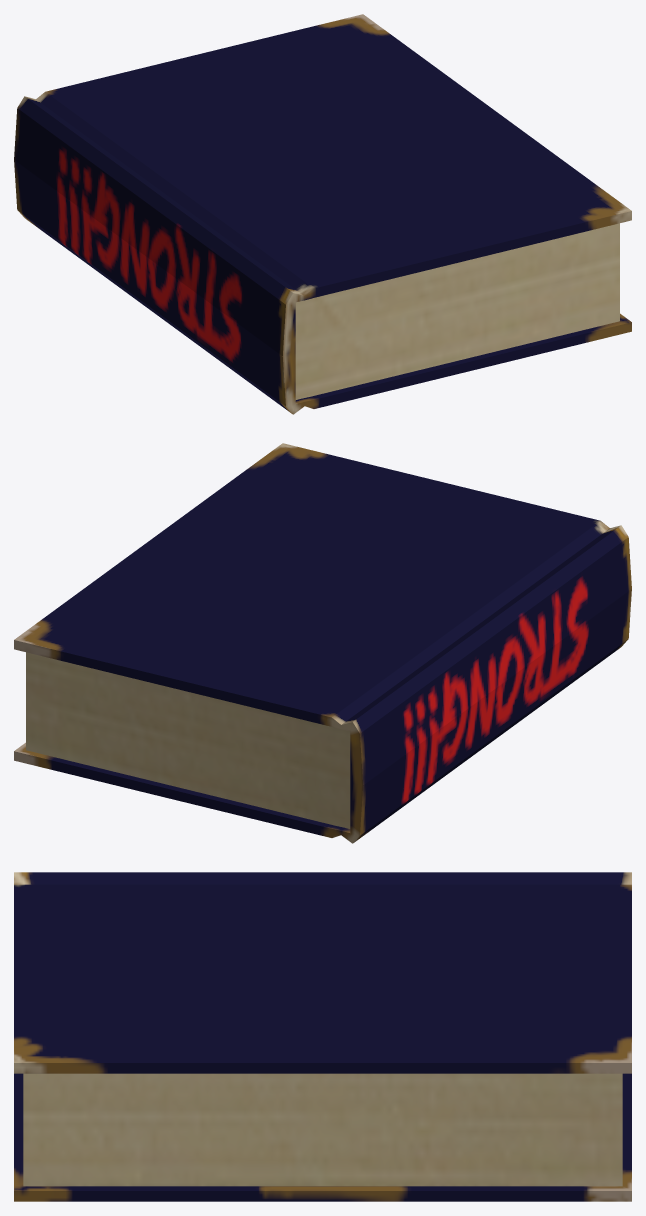
Rendered from LIBRO_STRONG.glb.
The picture shows the model from 3 angles, top to bottom: view 1: azimuth 30°, elevation 25°; view 2: azimuth 150°, elevation 25°; view 3: azimuth 270°, elevation 25°; orthographic projection. The views are drawn at different scales.
Parts seen in each view (by area): view 1: LIBRO_1; view 2: LIBRO_1; view 3: LIBRO_1.
Part boxes in pixels (x1,y1,x2,y2): LIBRO_1: (14,14,631,414); LIBRO_1: (14,443,631,843); LIBRO_1: (14,872,631,1201).
Size of the model in its own units: 0.3 by 0.1 by 0.4.
Materials: 1 (1 with a texture image).
